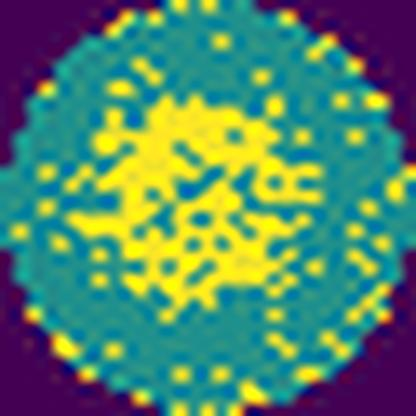Center: (60, 94, 322, 312)
